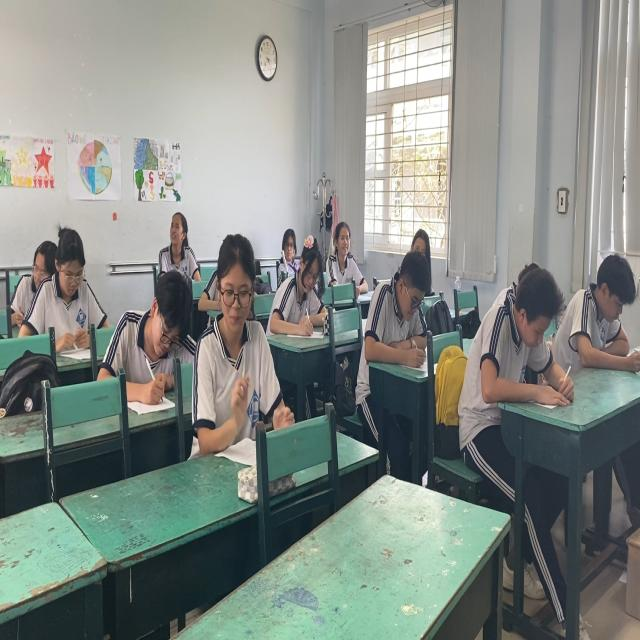not_cheating: (194, 229, 276, 434), (483, 252, 572, 408), (564, 248, 640, 377), (33, 225, 109, 345), (124, 275, 198, 394), (379, 245, 435, 351), (282, 235, 328, 331), (326, 213, 364, 292), (159, 206, 193, 276), (279, 223, 302, 266)
